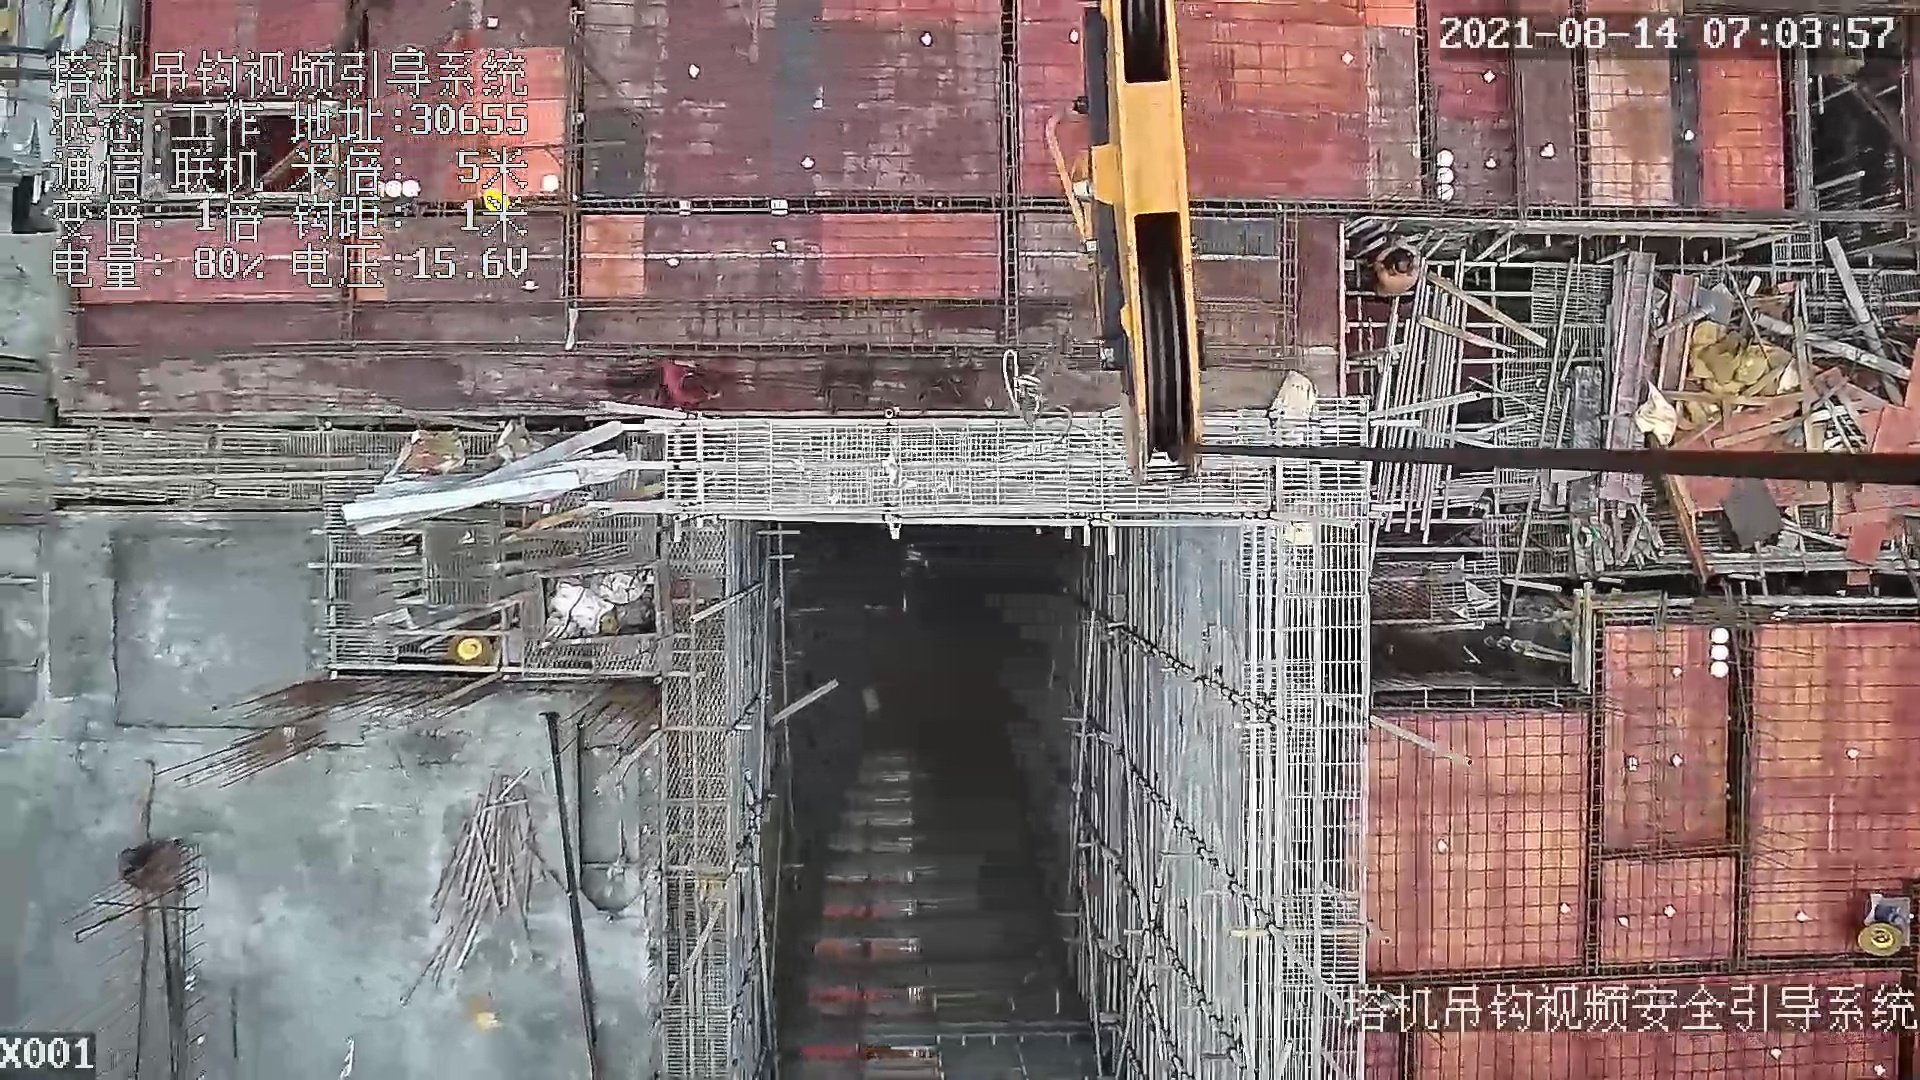hook: (1036, 1, 1214, 480)
person: (1363, 235, 1421, 297)
